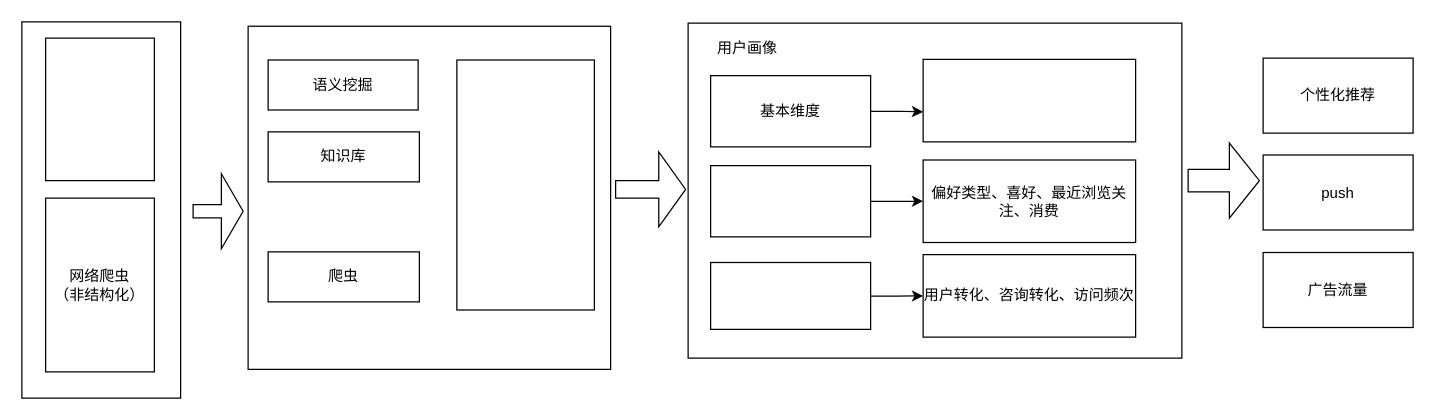
This 1435x420 diagram has some shape labels left out. The shapes that lost their labels are listed below. From the top down, each one's centre as x and y in pixels, then its label:
At (99,109): "结构化数据".
At (1029,100): "性别、年龄、终端设备、网络、地域".
At (525,184): "行为标注引擎".
At (790,200): "兴趣偏好/行为习惯".
At (790,295): "商业纬度".
